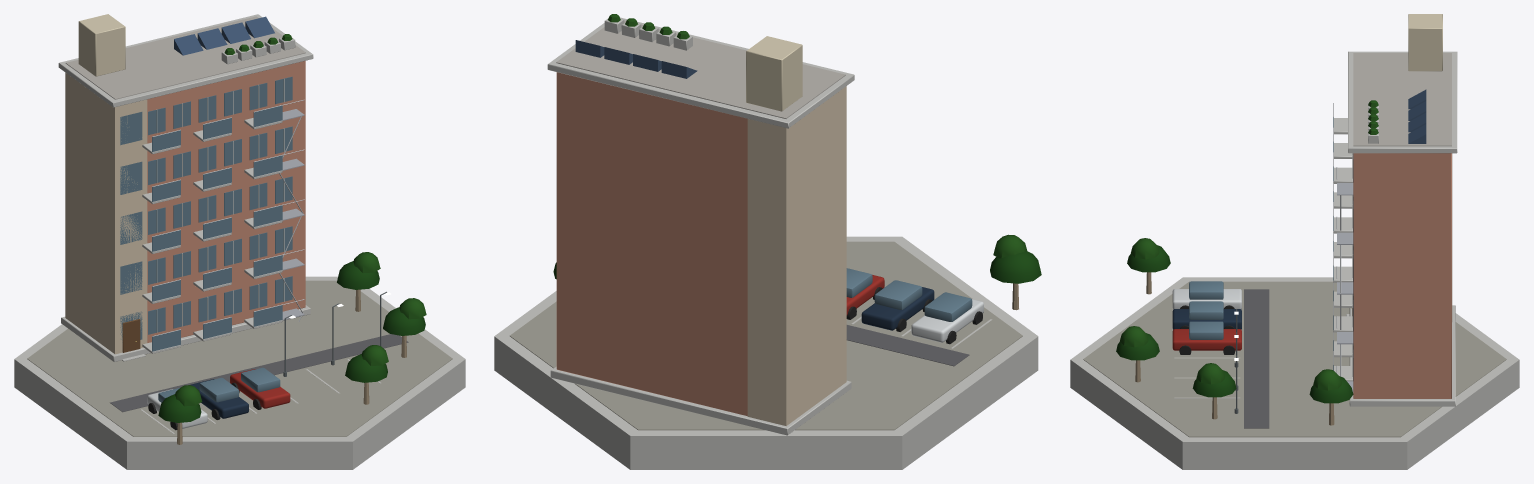
Rendered from apartments_us.glb.
3 renders of one model, left to right at view 1: azimuth 30°, elevation 25°; view 2: azimuth 150°, elevation 25°; view 3: azimuth 270°, elevation 25°, orthographic. The views are drawn at different scales.
Visible parts, largest first — view 1: pavers, wall_concrete, glass, paint, brick, gravel, leaf, plaster, asphalt, metal, solar, wood; view 2: brick, wall_concrete, paint, pavers, gravel, plaster, glass, leaf, asphalt, solar; view 3: pavers, wall_concrete, brick, gravel, leaf, asphalt, paint, glass, plaster, metal, solar, wood.
Boxes of the visible parts, box(x1,y1,x2,y2) form: pavers: box(27, 280, 452, 436); wall_concrete: box(14, 14, 465, 469); glass: box(120, 76, 292, 402); paint: box(65, 72, 290, 428); brick: box(147, 61, 305, 342); gravel: box(65, 16, 305, 99); leaf: box(158, 34, 426, 422); plaster: box(78, 14, 125, 76); asphalt: box(110, 334, 408, 412); metal: box(152, 99, 304, 336); solar: box(174, 16, 274, 55); wood: box(122, 289, 406, 444); brick: box(556, 72, 747, 415); wall_concrete: box(494, 17, 1038, 469); paint: box(747, 86, 983, 425); pavers: box(510, 241, 1022, 430); gravel: box(556, 20, 845, 118); plaster: box(746, 36, 802, 111); glass: box(846, 268, 972, 321); leaf: box(553, 14, 1041, 283); asphalt: box(846, 325, 969, 366); solar: box(575, 40, 697, 78); pavers: box(1083, 281, 1506, 437); wall_concrete: box(1070, 51, 1519, 469); brick: box(1353, 153, 1451, 398); gravel: box(1353, 53, 1451, 146); leaf: box(1116, 100, 1378, 403); asphalt: box(1244, 289, 1269, 428); paint: box(1172, 153, 1452, 350); glass: box(1189, 117, 1353, 380); plaster: box(1408, 14, 1442, 71); metal: box(1333, 103, 1353, 393); solar: box(1408, 89, 1426, 143); wood: box(1135, 272, 1352, 425).
Bounding box in the file's own units: 21.3 × 20.85 × 24.6.
